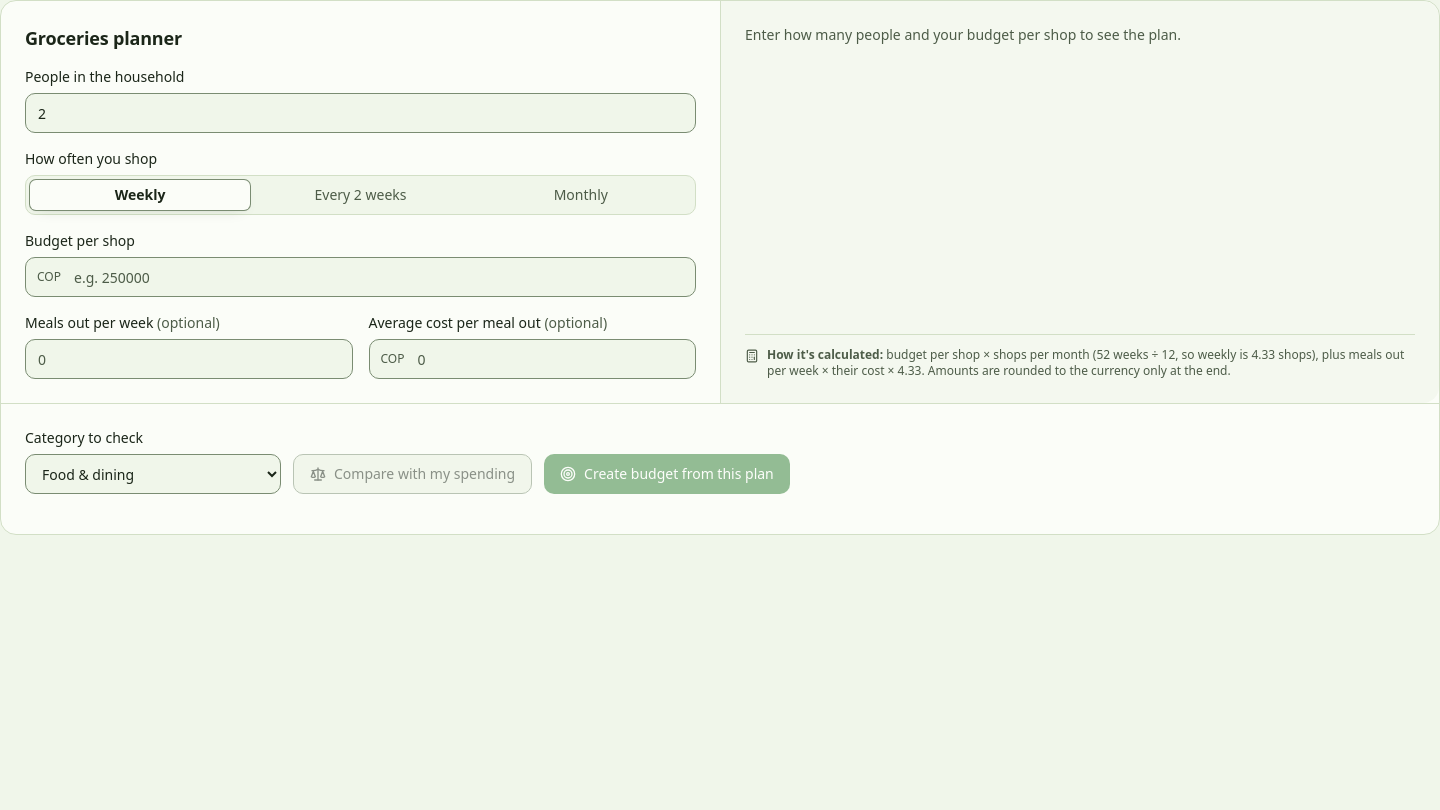
GroceriesCalculator › compares the plan with real spending and shows a status with a label
In the number field labelled "Budget per shop": (360, 277) 25,257 -> 696,297, type "250000"
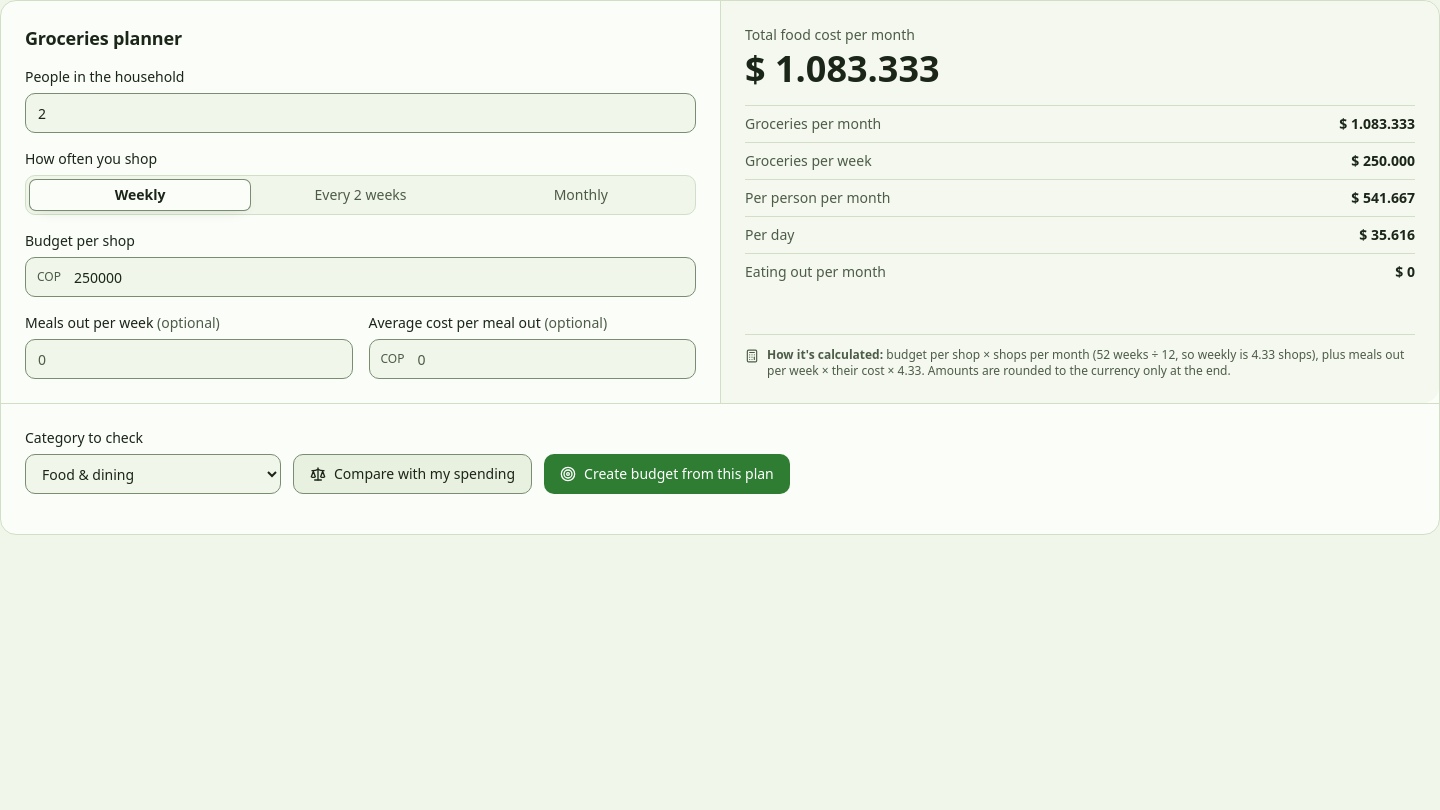
Click the button "Compare with my spending": (413, 474) 293,454 -> 532,494
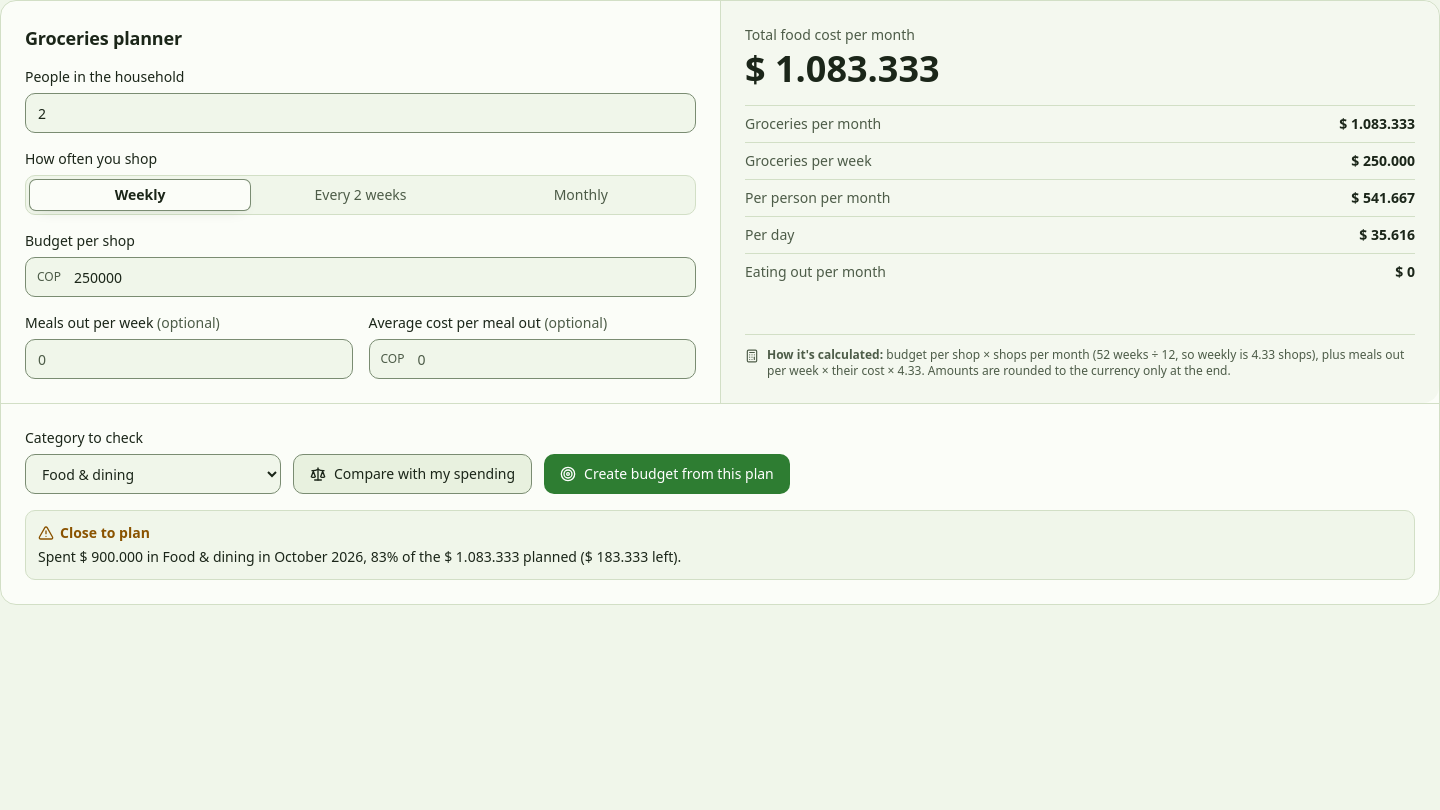
Result: the text "Close to plan" is shown at 38,523 -> 150,542
Replace the text in the number field labelled "Budget per shop" with "150000": (360, 277) 25,257 -> 696,297
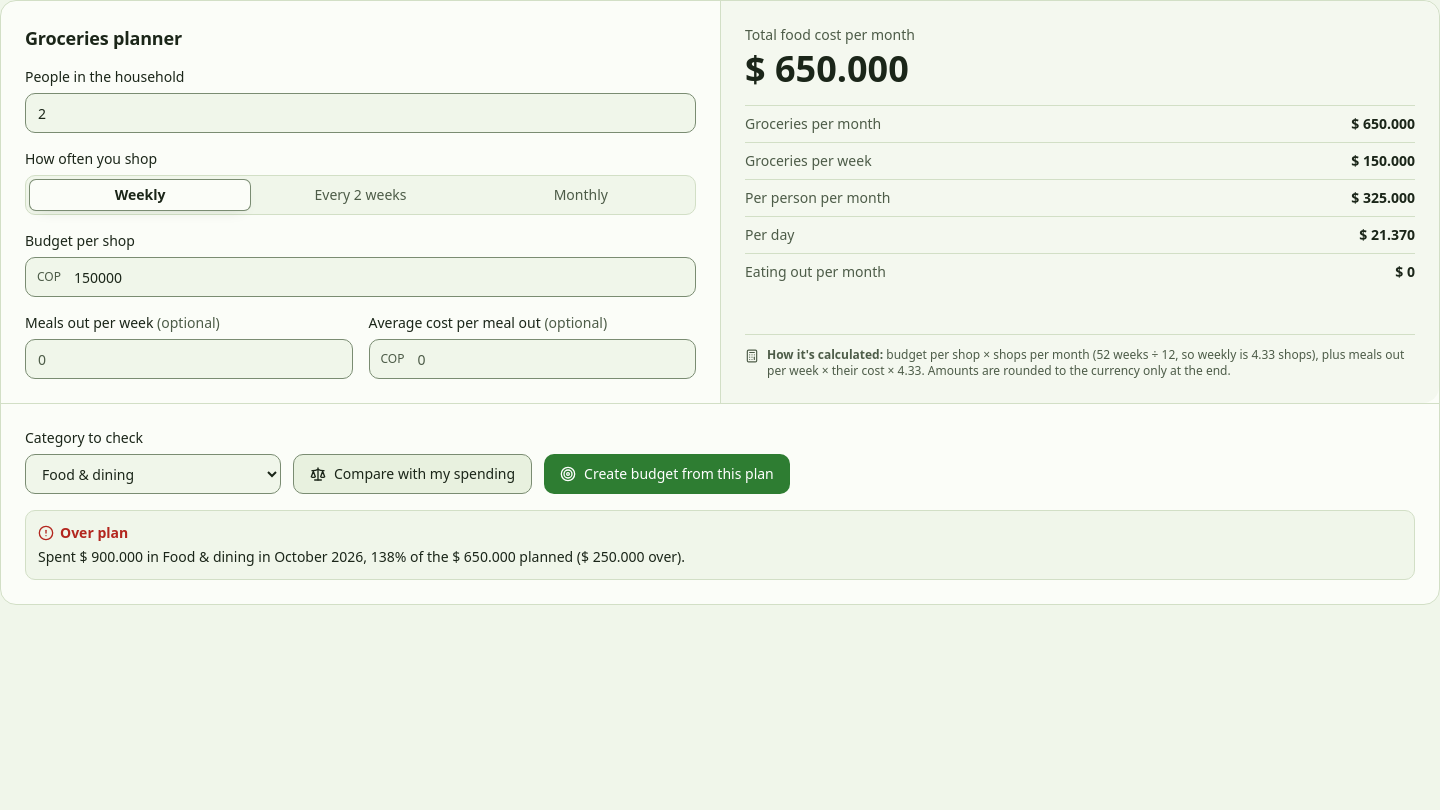
Result: the text "Over plan" is shown at 38,523 -> 128,542
